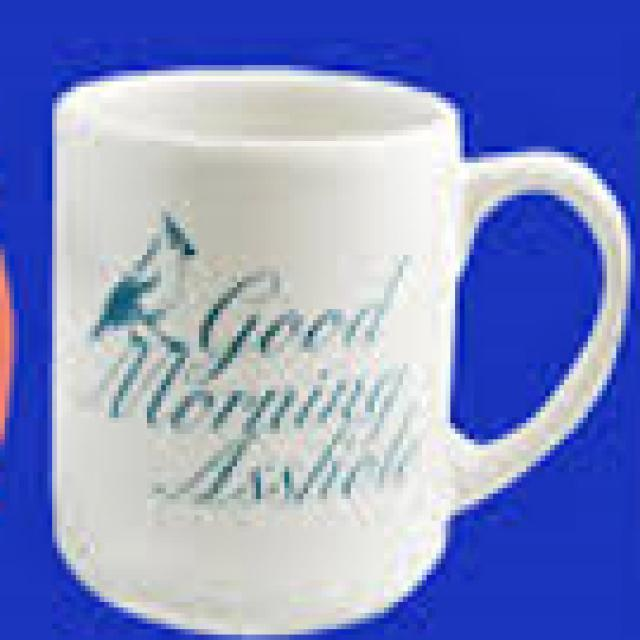taza: (53, 66, 634, 640)
